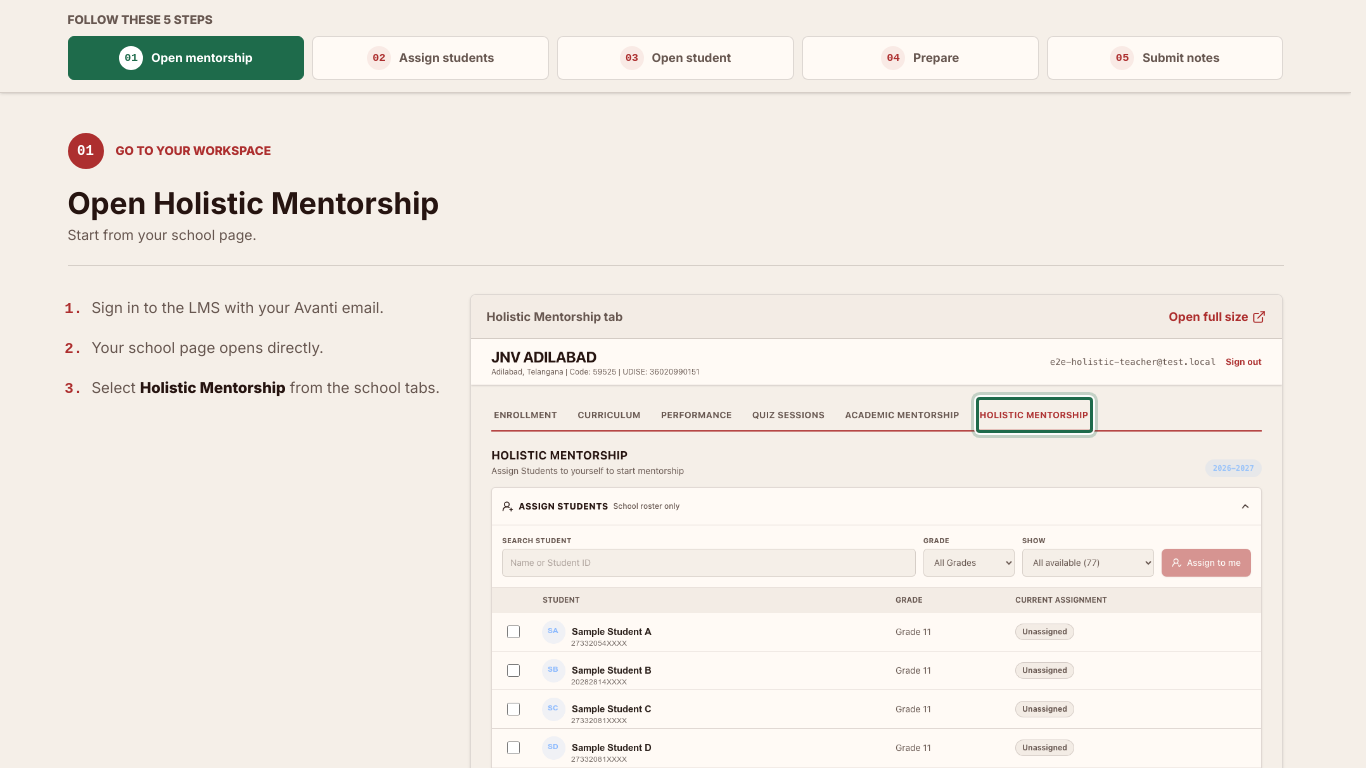
Test case: HolisticMentorshipTutorial › moves through the Teacher guide and keeps the approved content
Expected: the heading "Open Holistic Mentorship" is shown, [68,185,439,221]
Expected: the number of elements with test id "screenshot-highlight" is 1, [976,397,1093,433]
Click the button "02 Assign students" at x=431, y=58, box [312,36,549,80]
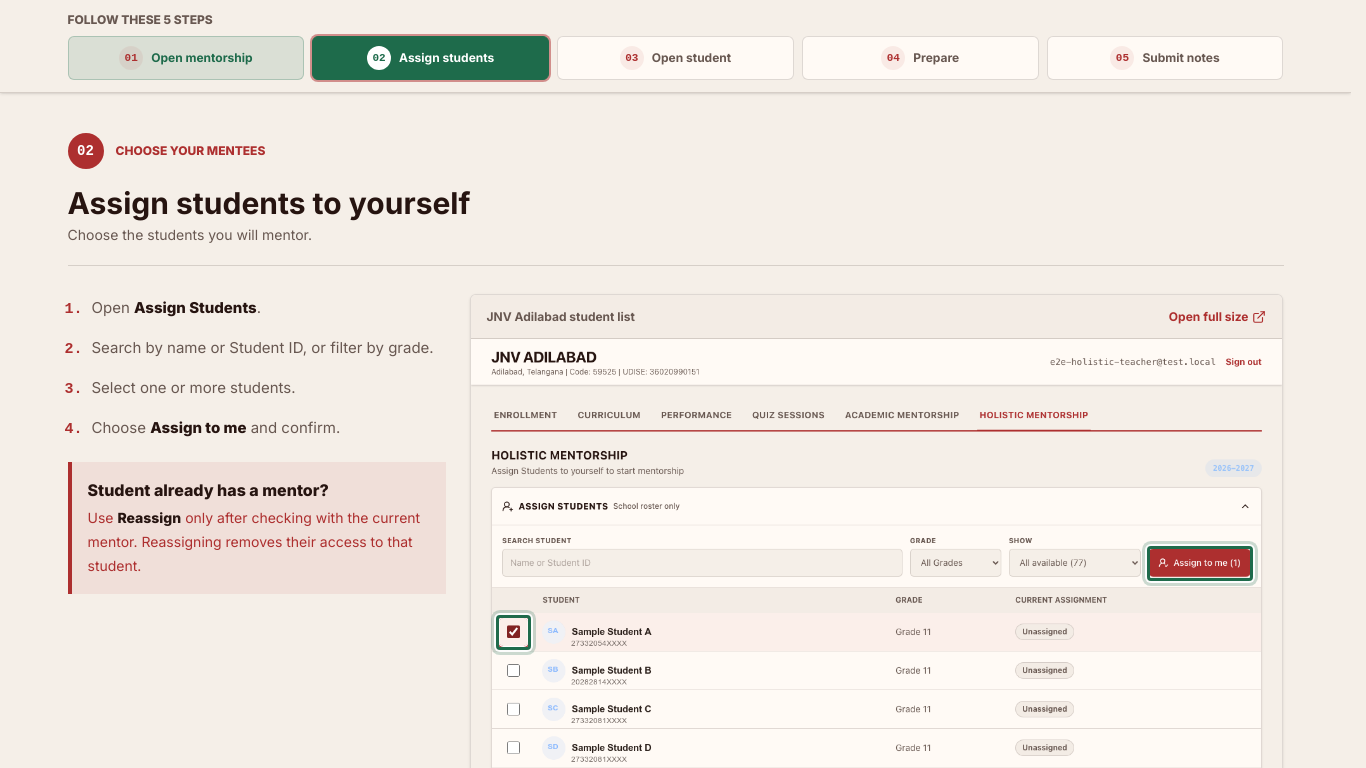
Expected: the heading "Assign students to yourself" is shown, [68,185,470,221]
Expected: the text "Student already has a mentor?" is shown, [88,480,329,500]
Expected: the number of elements with test id "screenshot-highlight" is 2, [496,614,531,650]; [1147,546,1253,580]
Click the button "04 Prepare" at x=920, y=58, box [802,36,1039,80]
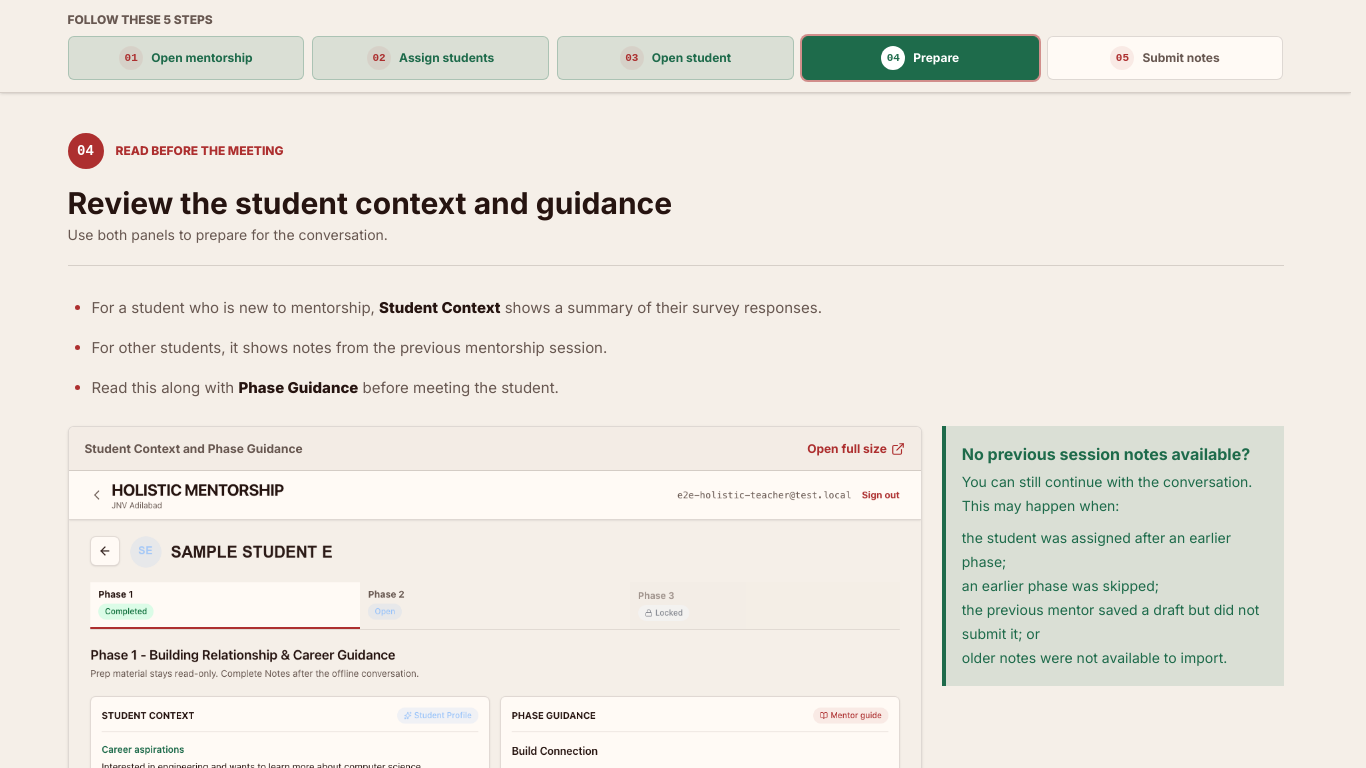
Expected: the heading "Review the student context and guidance" is shown, [68,185,672,221]
Expected: the text "No previous session notes available?" is shown, [962,442,1268,466]
Expected: no elements with test id "screenshot-highlight" are shown
Click the button "05 Submit notes" at x=1165, y=58, box [1047,36,1284,80]
(page scrolled)
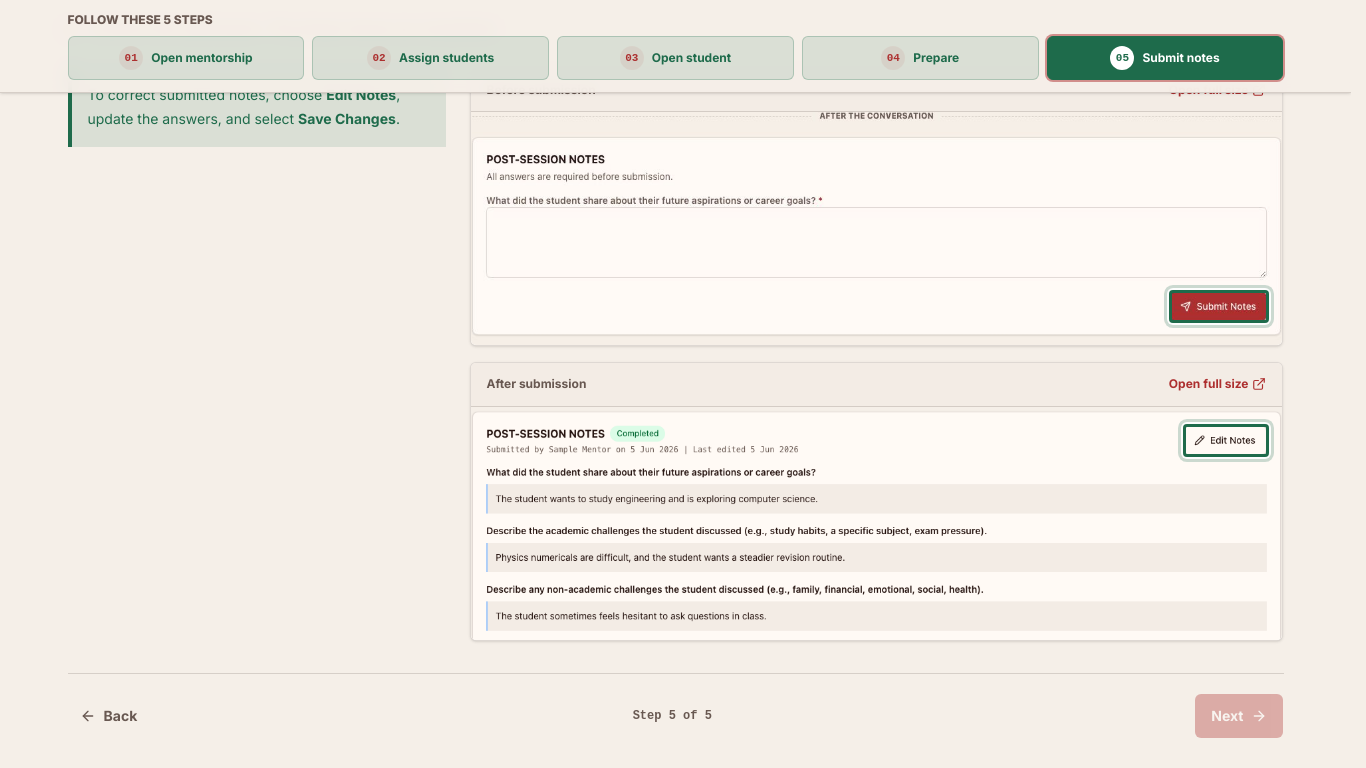
Expected: the text "Before submission" is shown, [487,82,596,98]
Expected: the text "After submission" is shown, [487,376,586,392]
Expected: the number of elements with test id "screenshot-highlight" is 2, [1169,290,1269,324]; [1183,424,1270,457]
